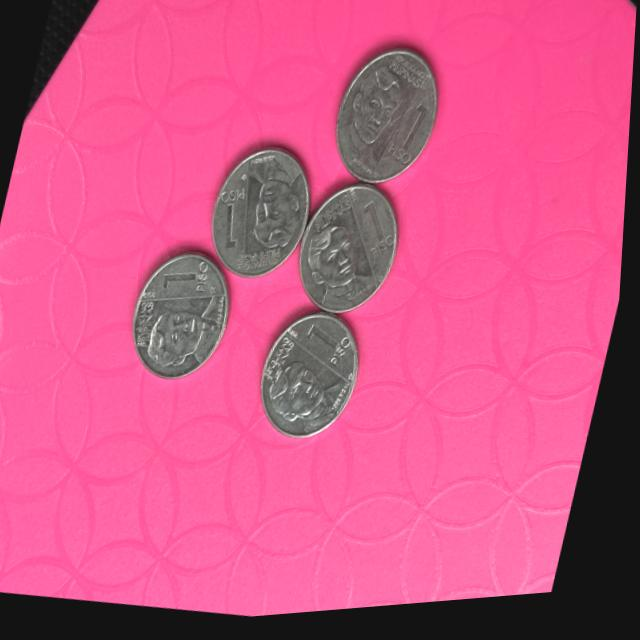1_New_Front: (384, 90, 443, 180), (145, 260, 222, 310), (353, 204, 404, 275), (293, 326, 356, 373), (214, 189, 250, 262)
